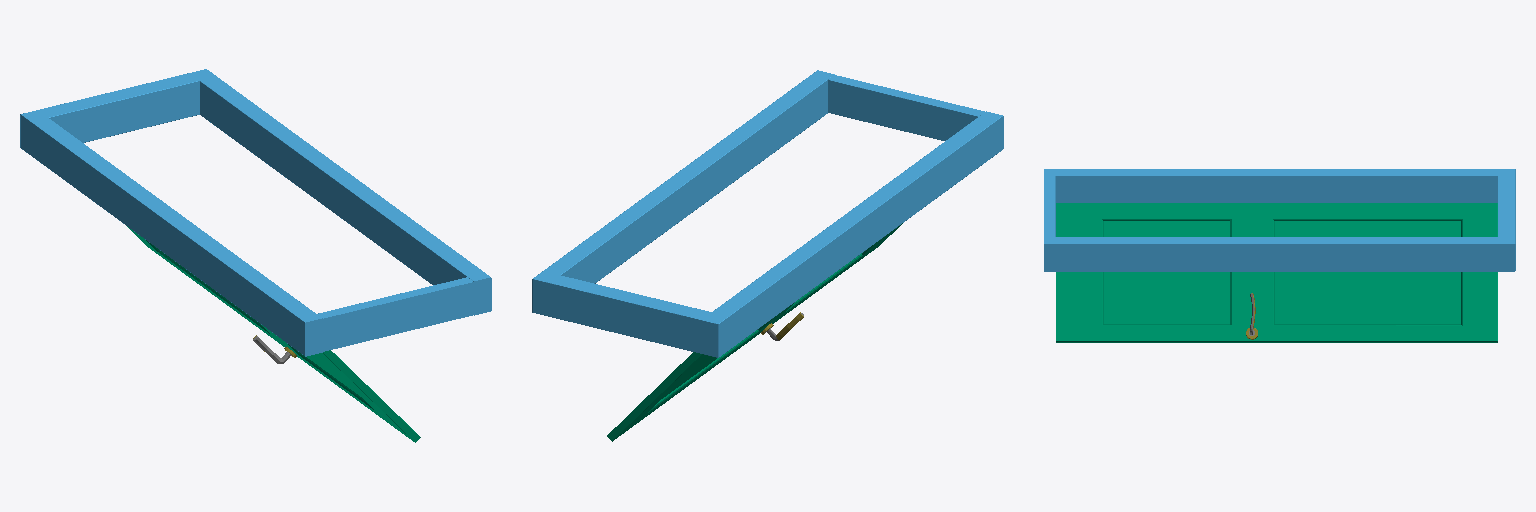
robot.urdf — 122:
<robot name="122">


	<link name="0:virtual">
		<visual>
			<origin xyz="0.0 0.0 0.0" rpy="0 0 0"/>
			<geometry>
				<cylinder length="0" radius="0"/>
			</geometry>
		</visual>
	</link>


	<link name="1:static">
		<visual>
			<origin xyz="-0.0 -0.0 -0.0" rpy="0 0 0"/>
			<geometry>
				<mesh filename="../raw_data/122/part_meshes/1.dae" />
			</geometry>
		</visual>
	</link>


	<link name="2:door 1">
		<visual>
			<origin xyz="0.3208682435565092 -0.4836367012858392 0.061359027146796565" rpy="0 0 0"/>
			<geometry>
				<mesh filename="../raw_data/122/part_meshes/2.dae" />
			</geometry>
		</visual>
	</link>


	<link name="3:handle 2">
		<visual>
			<origin xyz="-0.1448358135996755 -0.9393599705696106 0.48905022038518753" rpy="0 0 0"/>
			<geometry>
				<mesh filename="../raw_data/122/part_meshes/3.dae" />
			</geometry>
		</visual>
	</link>


	<joint name="0:virtual::1:static" type="fixed">
		<parent link="0:virtual"/>
		<child link="1:static"/>
		<origin xyz="0.0 0.0 0.0" rpy="0 0 0"/>
	</joint>


	<joint name="0:virtual::2:door 1_rotation" type="revolute">
		<parent link="0:virtual"/>
		<child link="2:door 1"/>
		<origin xyz="-0.3208682435565092 0.4836367012858392 -0.061359027146796565" rpy="0 0 0"/>
		<limit lower="-0.9424777960769379" upper="1.382300767579509" effort="10" velocity="3"/>
		<axis xyz="0.0 1.0 0.0"/>
	</joint>


	<joint name="2:door 1::3:handle 2_rotation" type="revolute">
		<parent link="2:door 1"/>
		<child link="3:handle 2"/>
		<origin xyz="0.46570405715618474 0.45572326928377144 -0.42769119323839094" rpy="0 0 0"/>
		<limit lower="-0.7853981633974483" upper="0.0" effort="10" velocity="3"/>
		<axis xyz="-0.7572616745370587 0.0 -0.6531115955771492"/>
	</joint>


</robot>

--- Render facts (derived) ---
The picture shows the robot from 3 angles, left to right: view 1: azimuth 30°, elevation 25°; view 2: azimuth 150°, elevation 25°; view 3: azimuth 270°, elevation 25°; orthographic projection.
Robot: 122 — 4 links, 3 joints (2 revolute, 1 fixed); root link 0:virtual; default pose: every joint at zero.
Visible links, largest first — view 1: 1:static, 2:door 1; view 2: 1:static, 2:door 1; view 3: 2:door 1, 1:static.
Link boxes in pixels (x1=…): 1:static: x1=20, y1=69, x2=491, y2=356; 2:door 1: x1=127, y1=226, x2=420, y2=442; 1:static: x1=532, y1=70, x2=1003, y2=357; 2:door 1: x1=607, y1=223, x2=902, y2=441; 2:door 1: x1=1056, y1=203, x2=1497, y2=342; 1:static: x1=1044, y1=169, x2=1515, y2=271.
Size in the robot's own frame: 0.8 by 2.12 by 0.65 metres.
Meshes: 3 distinct files referenced, 3 mesh visuals loaded (3 Collada DAE).